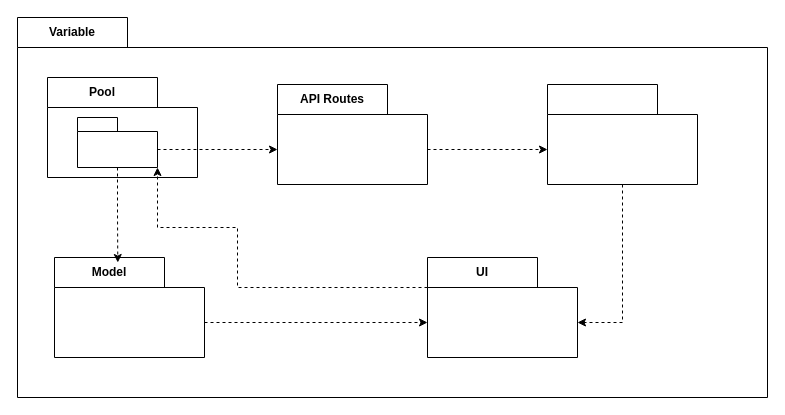
Some shapes in this 785 by 415 pixel diagram are drawn without their labels. The centre of each missing label's shape, as x and y in pixels:
database: (117,142)
Middlewares: (622,134)
